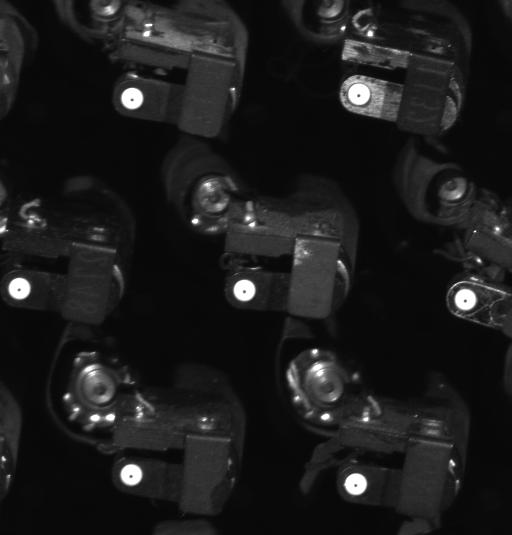fiber: (226, 274, 264, 310), (448, 284, 487, 318), (341, 80, 380, 110), (116, 82, 150, 114), (116, 458, 148, 491), (6, 274, 38, 306), (340, 471, 372, 499)
